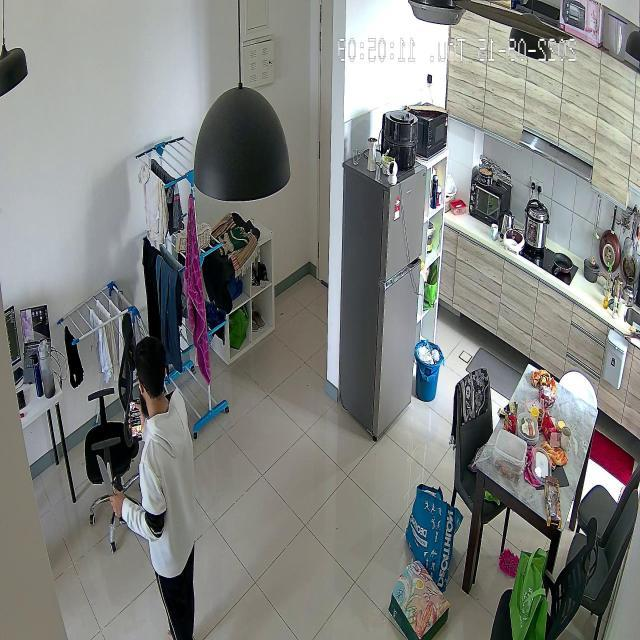Knife: (81, 448, 124, 514)
